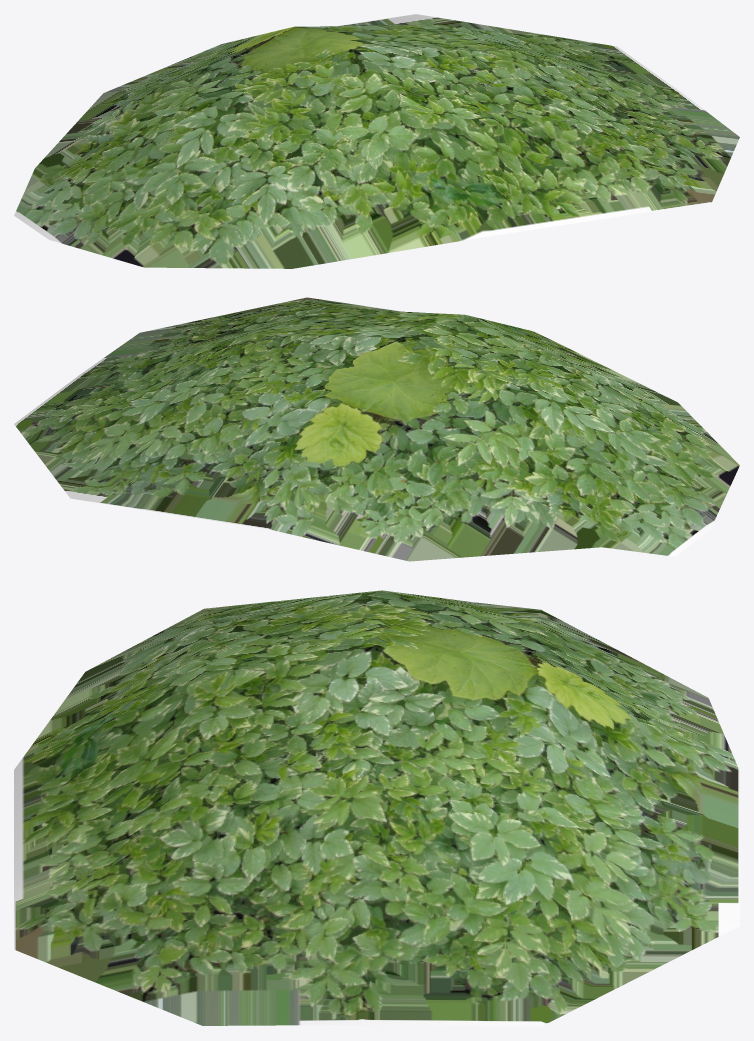
The model's file is shrub.glb.
The picture shows the model from 3 angles, top to bottom: view 1: azimuth 30°, elevation 25°; view 2: azimuth 150°, elevation 25°; view 3: azimuth 270°, elevation 25°; orthographic projection. The views are drawn at different scales.
Parts seen in each view (by area): view 1: Plane.037; view 2: Plane.037; view 3: Plane.037.
Boxes of the visible parts, bbox=[...] form: Plane.037: bbox=[14, 14, 739, 268]; Plane.037: bbox=[14, 297, 739, 561]; Plane.037: bbox=[14, 590, 739, 1026].
Bounding box in the file's own units: 4.6 × 0.8351 × 3.36.
Materials: 1 (1 with a texture image).
